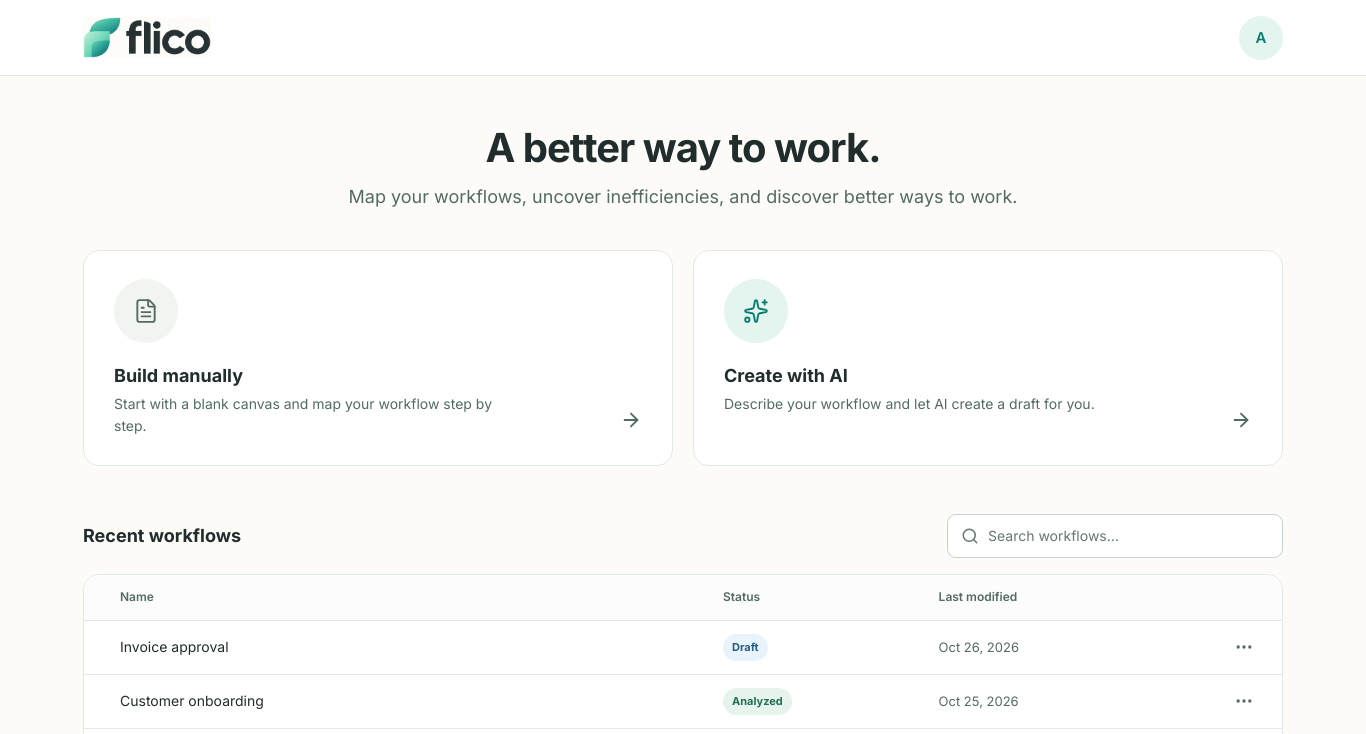
Test: dashboard › does not allow an empty name
Click the button named "Actions for Invoice approval". click: (1244, 647)
box: [1222,625,1266,669]
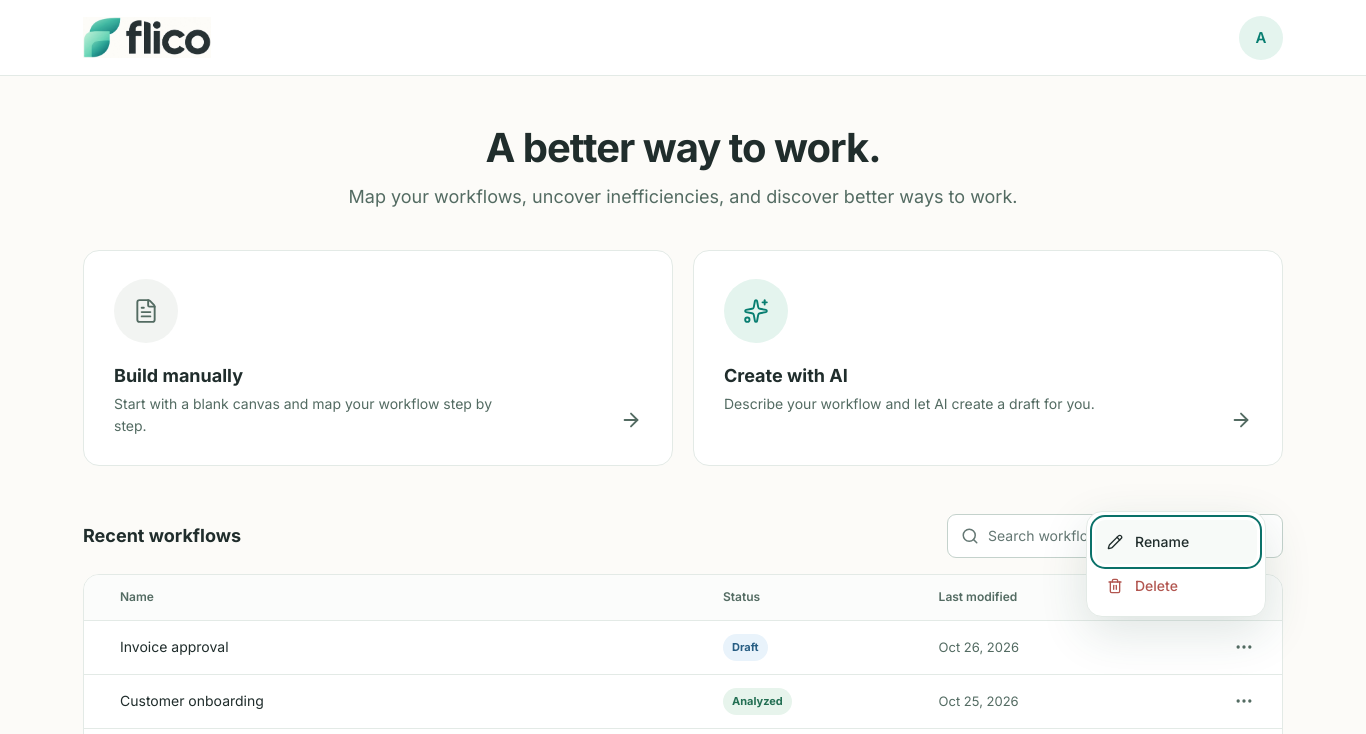
Click the menu item "Rename". click: (1176, 542)
box: [1095,520,1257,564]
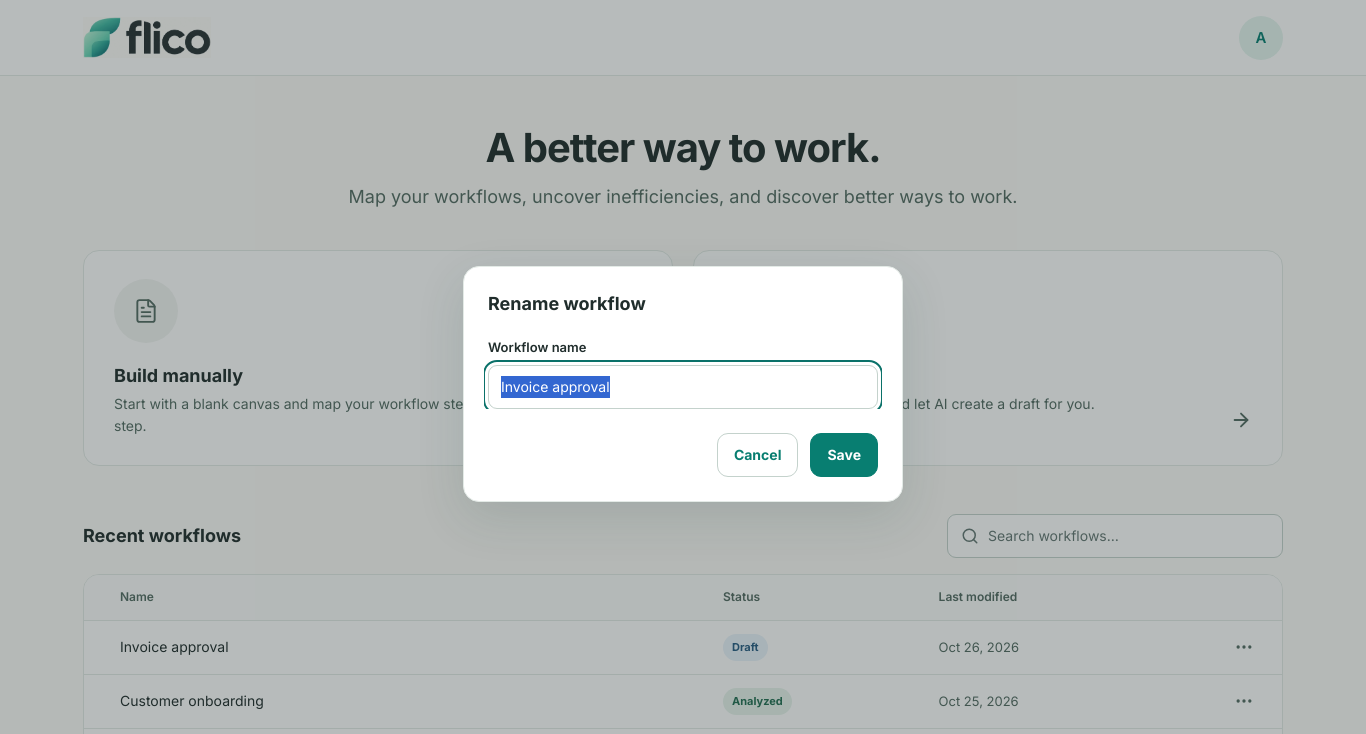
Clear the field labelled "Workflow name". click: (683, 387)
box: [488,365,878,409]
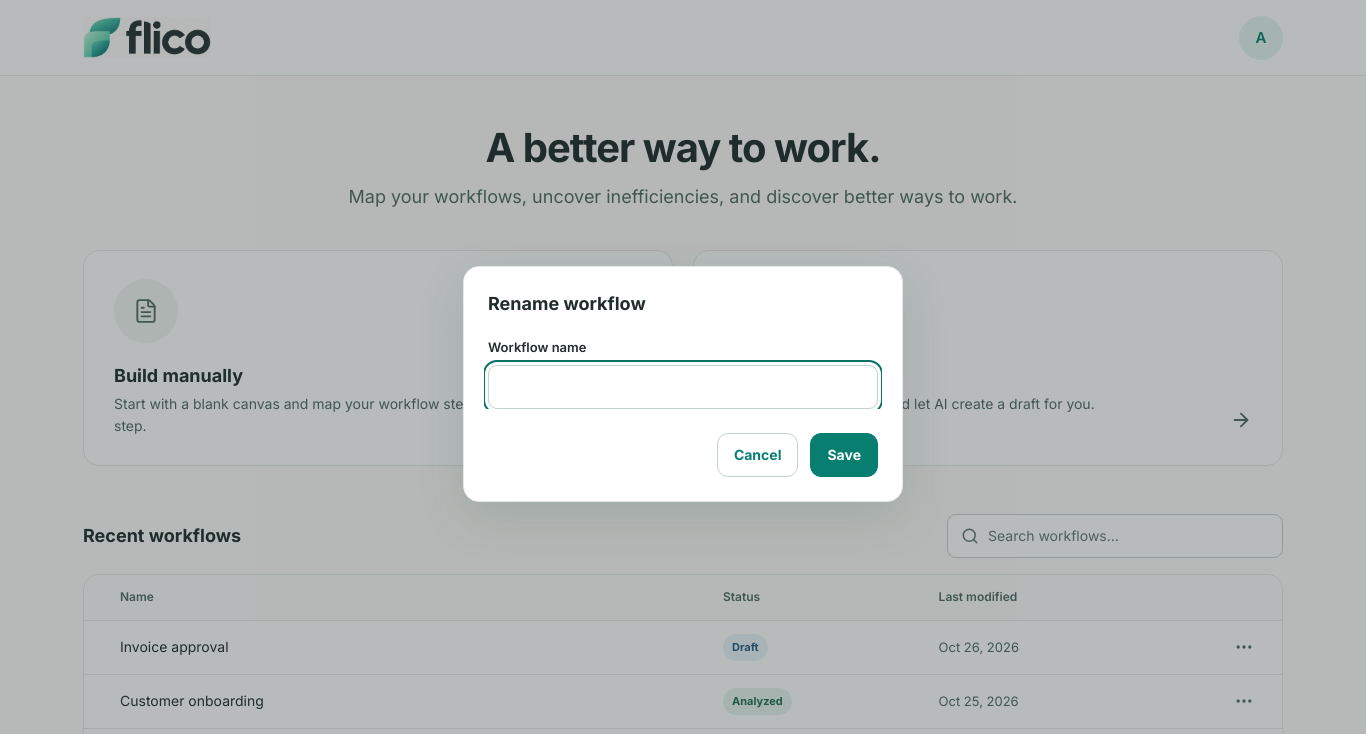
Click the button "Save". click: (844, 455)
box: [810,433,878,477]
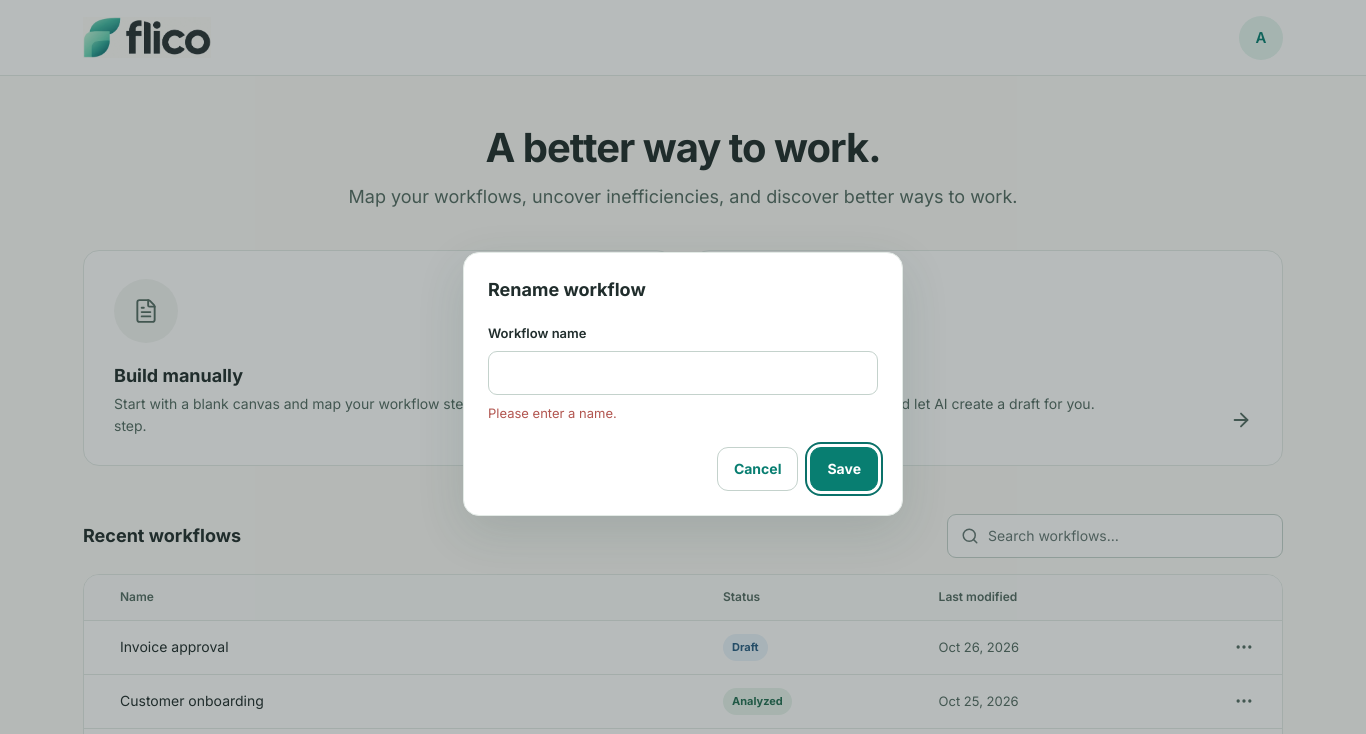
Expected: the message reads "Please enter a name.", [488,405,617,421]
